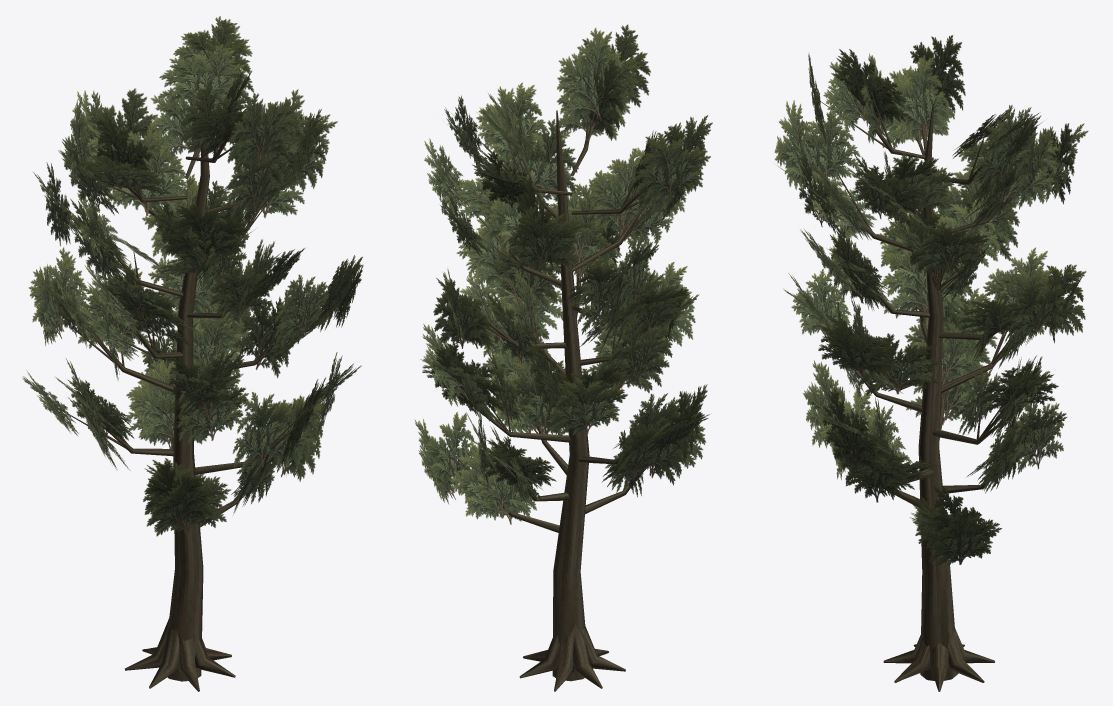
File: temple_cypress_a.glb
The picture shows the model from 3 angles, left to right: view 1: azimuth 30°, elevation 25°; view 2: azimuth 150°, elevation 25°; view 3: azimuth 270°, elevation 25°; orthographic projection. The views are drawn at different scales.
Parts seen in each view (by area): view 1: temple_cypress_a foliage, temple_cypress_a wood; view 2: temple_cypress_a foliage, temple_cypress_a wood; view 3: temple_cypress_a foliage, temple_cypress_a wood.
Part boxes in pixels (x1,y1,x2,y2): temple_cypress_a foliage: [22, 16, 363, 536]; temple_cypress_a wood: [47, 85, 338, 691]; temple_cypress_a foliage: [414, 24, 712, 524]; temple_cypress_a wood: [445, 76, 684, 691]; temple_cypress_a foliage: [774, 35, 1088, 565]; temple_cypress_a wood: [797, 68, 1069, 691].
Size of the model in its own units: 12.1 by 23.41 by 11.33.
Materials: 2 (2 with a texture image).
